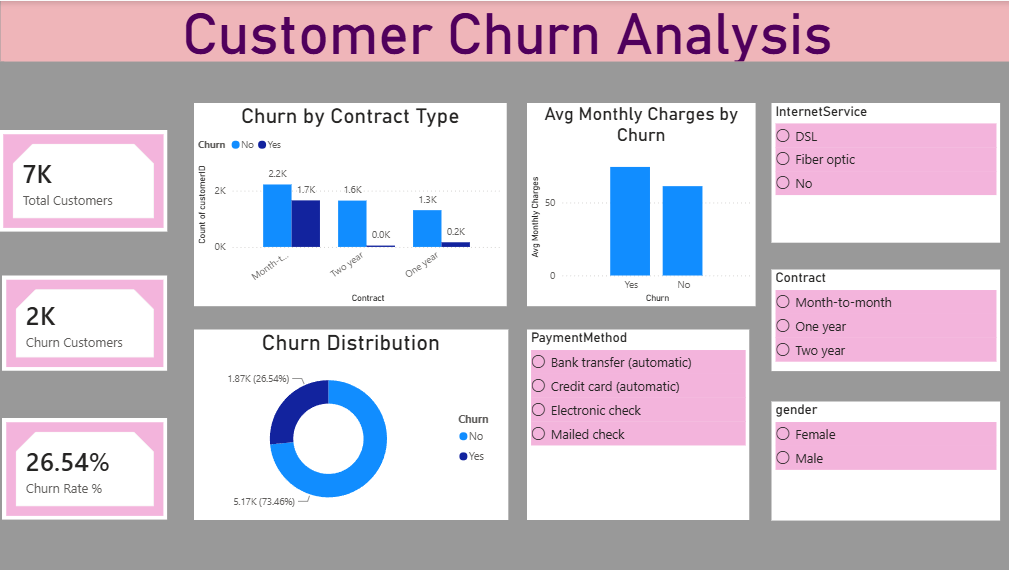

This screenshot's page, from the dashboard's own definition file:
{"tool":"powerbi","page":{"name":"customer churn analysis","canvas":[1280,720],"ordinal":0},"visuals":[{"type":"cardVisual","fields":{"Data":["WA_Fn-UseC_-Telco-Customer-Churn.Total Customers"]},"box":[0,162,212,128],"z":0},{"type":"cardVisual","fields":{"Data":["WA_Fn-UseC_-Telco-Customer-Churn.Churn Customers"]},"box":[4,346,208,120],"z":1000},{"type":"cardVisual","fields":{"Data":["WA_Fn-UseC_-Telco-Customer-Churn.Churn Rate %"]},"box":[4,526,208,128],"z":2000},{"type":"donutChart","title":"Churn Distribution","fields":{"Category":["WA_Fn-UseC_-Telco-Customer-Churn.Churn"],"Y":["CountNonNull(WA_Fn-UseC_-Telco-Customer-Churn.customerID)"]},"box":[246,414,396,240],"z":3000},{"type":"clusteredColumnChart","title":"Churn by Contract Type","fields":{"Category":["WA_Fn-UseC_-Telco-Customer-Churn.Contract"],"Y":["CountNonNull(WA_Fn-UseC_-Telco-Customer-Churn.customerID)"],"Series":["WA_Fn-UseC_-Telco-Customer-Churn.Churn"]},"box":[246,128,394,256],"z":4000},{"type":"clusteredColumnChart","fields":{"Category":["WA_Fn-UseC_-Telco-Customer-Churn.Churn"],"Y":["WA_Fn-UseC_-Telco-Customer-Churn.Avg Monthly Charges"]},"box":[666,128,288,256],"z":5000},{"type":"listSlicer","fields":{"Values":["WA_Fn-UseC_-Telco-Customer-Churn.Contract"]},"box":[974,338,288,128],"z":6000},{"type":"listSlicer","fields":{"Values":["WA_Fn-UseC_-Telco-Customer-Churn.gender"]},"box":[974,504,288,150],"z":7000},{"type":"listSlicer","fields":{"Values":["WA_Fn-UseC_-Telco-Customer-Churn.InternetService"]},"box":[974,128,288,176],"z":8000},{"type":"listSlicer","fields":{"Values":["WA_Fn-UseC_-Telco-Customer-Churn.PaymentMethod"]},"box":[666,414,280,240],"z":9000},{"type":"textbox","title":"Customer Churn Analysis Dashboard","box":[2,0,1278,76],"z":11000}]}

Visuals, with their boxes in screenshot pixels (x1, y1, x2, y2), scaled from the page's 1280x720 canvas onto the 1009x570 screenshot:
cardVisual - WA_Fn-UseC_-Telco-Customer-Churn.Total Customers: bbox=[0, 128, 167, 230]
cardVisual - WA_Fn-UseC_-Telco-Customer-Churn.Churn Customers: bbox=[3, 274, 167, 369]
cardVisual - WA_Fn-UseC_-Telco-Customer-Churn.Churn Rate %: bbox=[3, 416, 167, 518]
"Churn Distribution" donutChart: bbox=[194, 328, 506, 518]
"Churn by Contract Type" clusteredColumnChart: bbox=[194, 101, 504, 304]
clusteredColumnChart - WA_Fn-UseC_-Telco-Customer-Churn.Churn x WA_Fn-UseC_-Telco-Customer-Churn.Avg Monthly Charges: bbox=[525, 101, 752, 304]
listSlicer - WA_Fn-UseC_-Telco-Customer-Churn.Contract: bbox=[768, 268, 995, 369]
listSlicer - WA_Fn-UseC_-Telco-Customer-Churn.gender: bbox=[768, 399, 995, 518]
listSlicer - WA_Fn-UseC_-Telco-Customer-Churn.InternetService: bbox=[768, 101, 995, 241]
listSlicer - WA_Fn-UseC_-Telco-Customer-Churn.PaymentMethod: bbox=[525, 328, 746, 518]
"Customer Churn Analysis Dashboard" textbox: bbox=[2, 0, 1008, 60]
